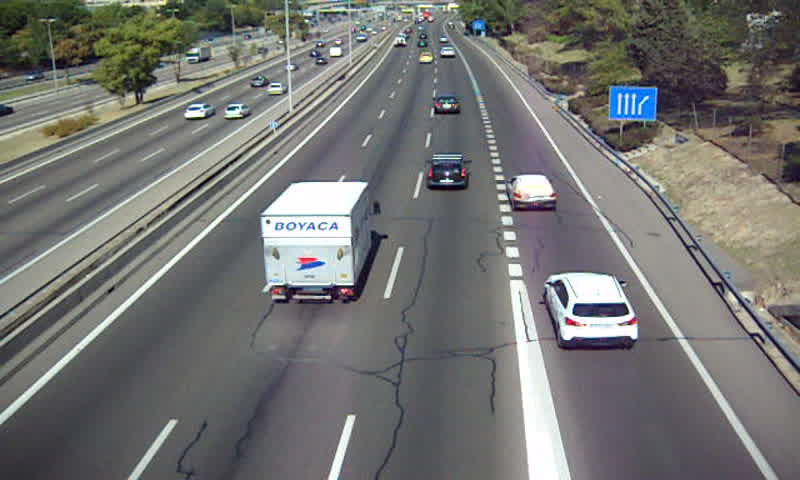car: (544, 272, 640, 351), (508, 173, 557, 209), (426, 152, 470, 189), (430, 95, 460, 116), (440, 46, 456, 58), (417, 51, 434, 62)
small-truck: (262, 181, 374, 302)
